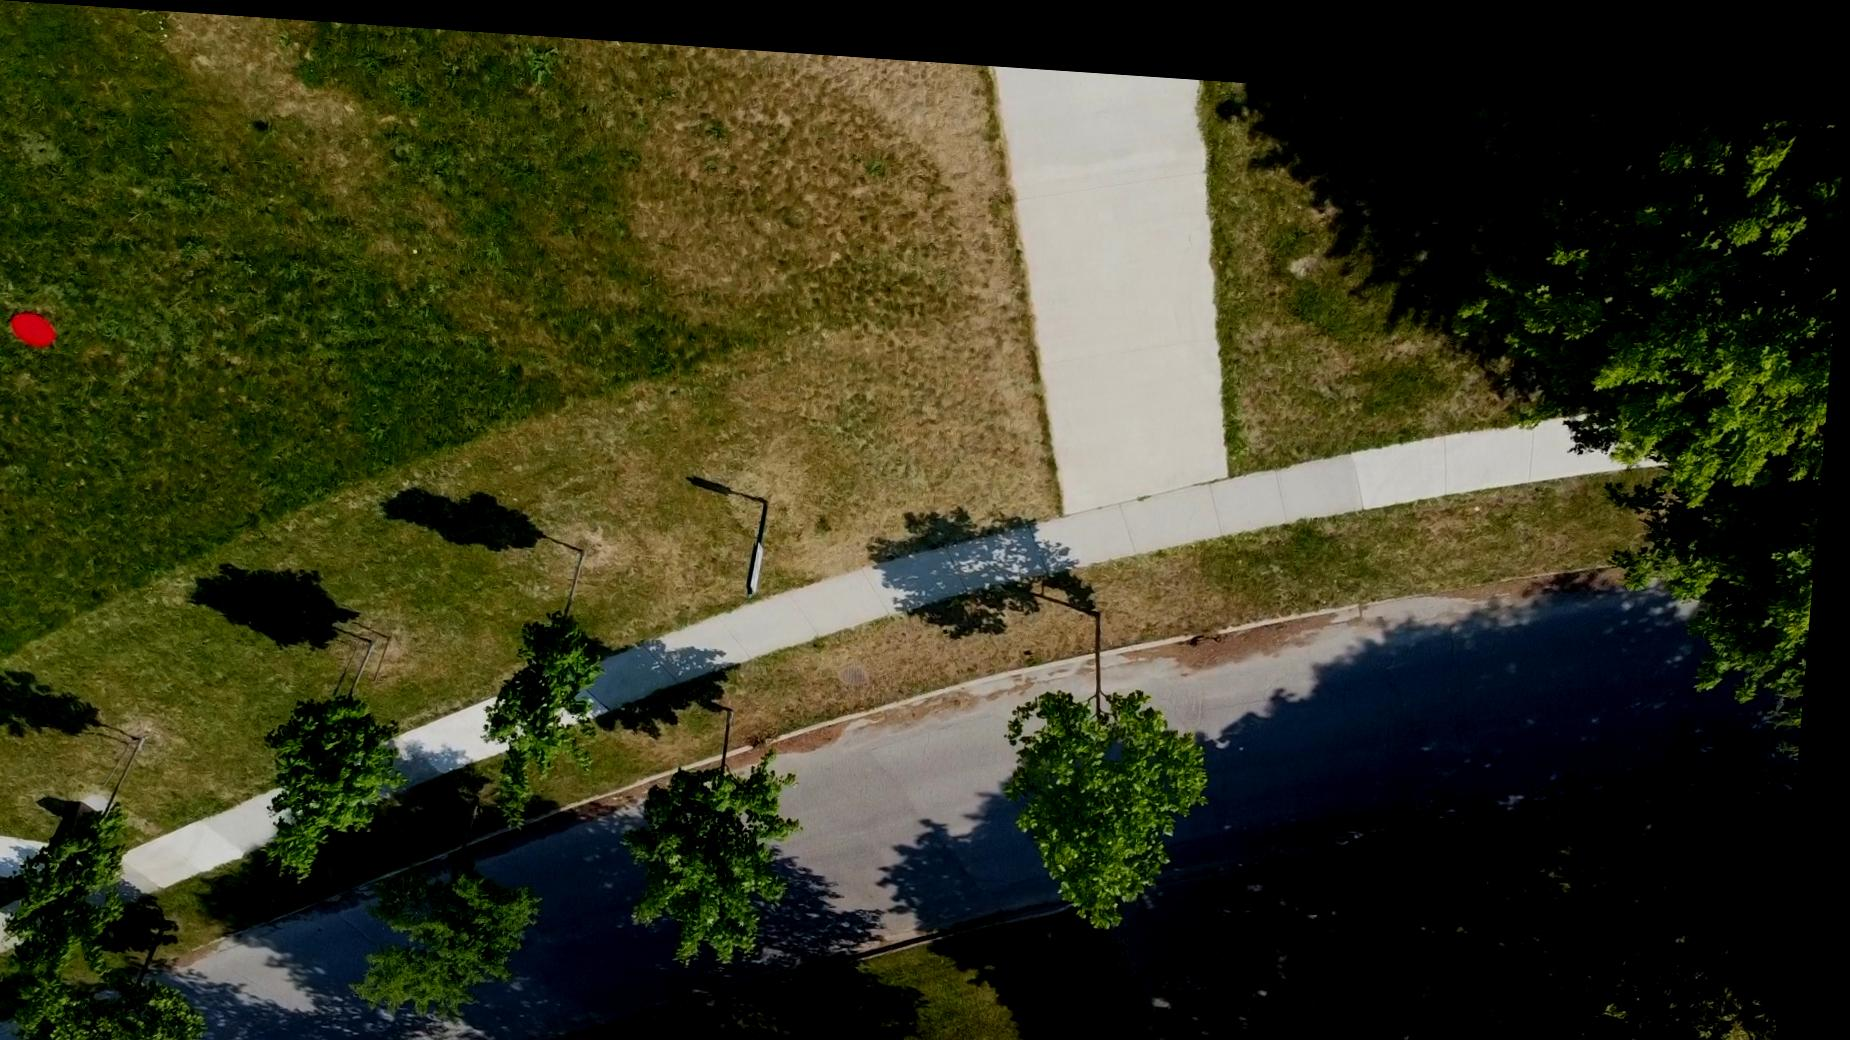Red: (14, 310, 65, 348)
